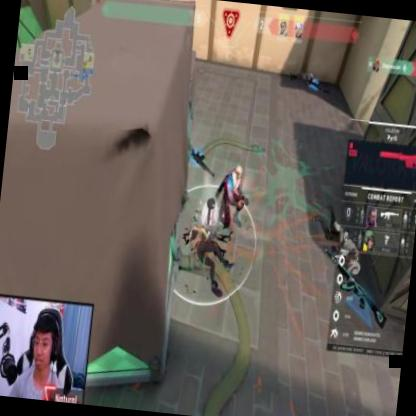enemy: (216, 163, 249, 227)
enemy_head: (233, 165, 242, 180)
